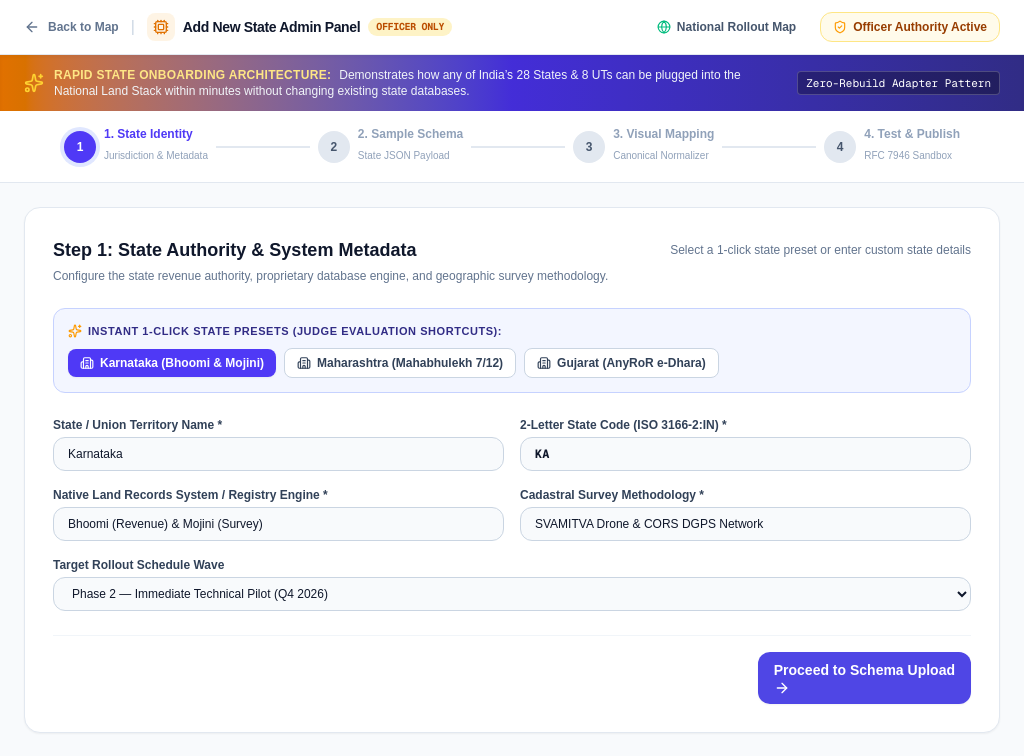
Test: State Onboarding Admin Panel & Schema Adapter Wizard › publishes state adapter to Land Mesh with success message and confirmation banner
# Navigate to step 4
Click the button with test id "next-step-1-btn" at (864, 678), box [758,652,971,704]
(page scrolled)
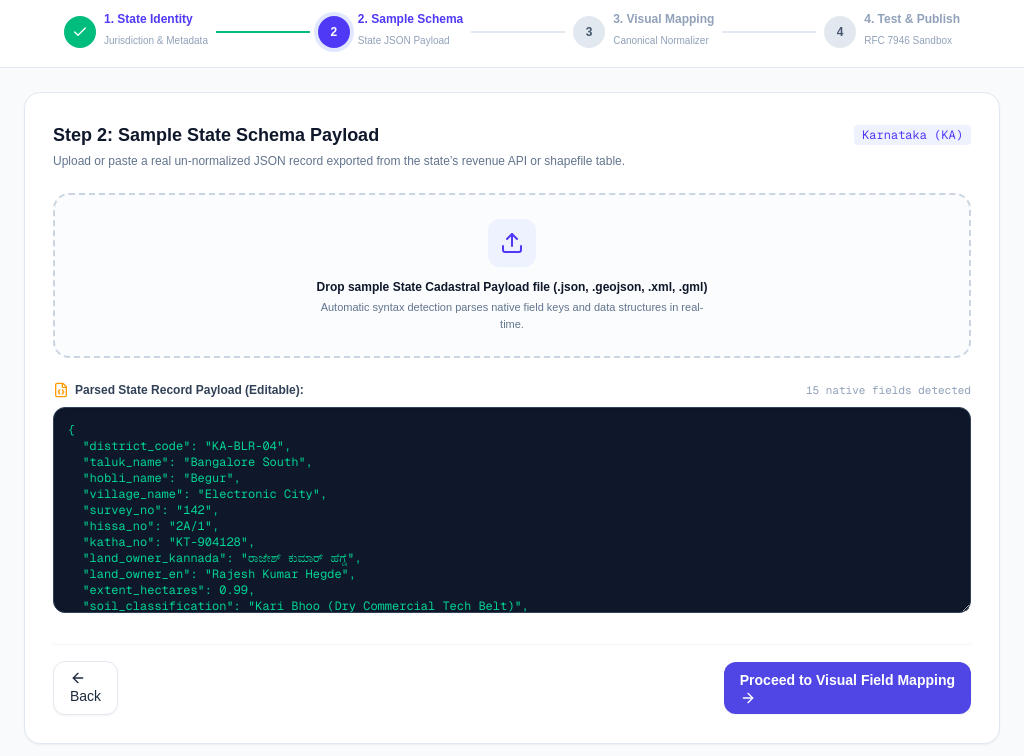
Click the button with test id "next-step-2-btn" at (847, 688), box [724,662,971,714]
(page scrolled)
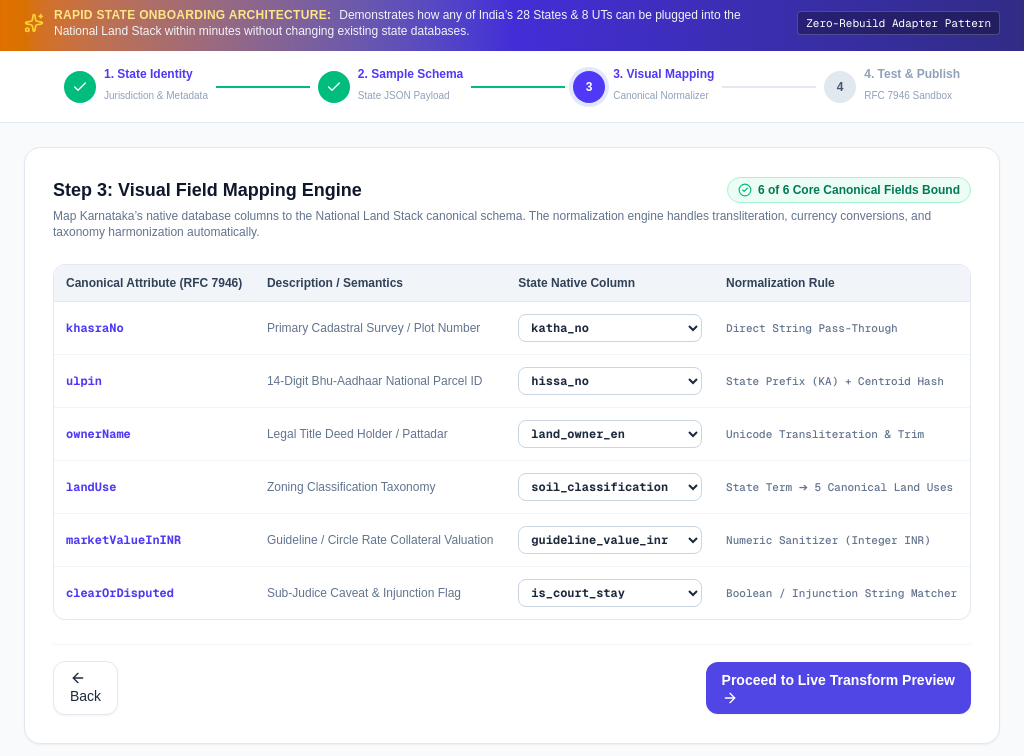
Click the button with test id "next-step-3-btn" at (838, 688), box [706,662,971,714]
(page scrolled)
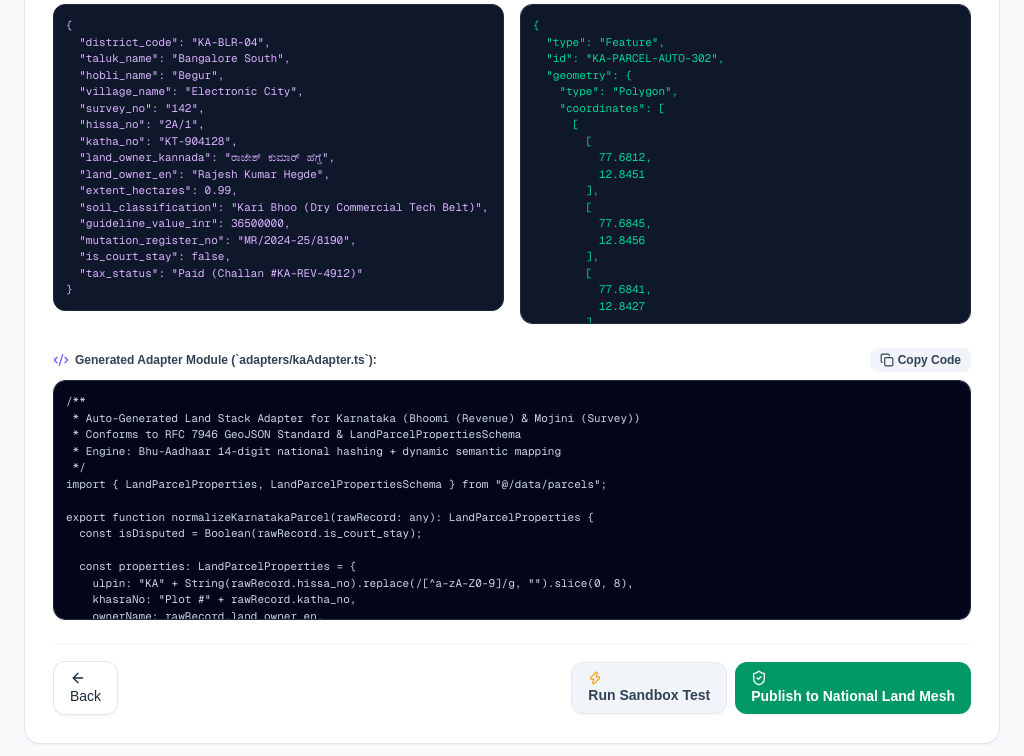
Result: the button with test id "publish-state-adapter-btn" is shown
Result: the button with test id "publish-state-adapter-btn" reads "Publish to National Land Mesh"
Click the button with test id "publish-state-adapter-btn" at (853, 688), box [735,662,971,714]
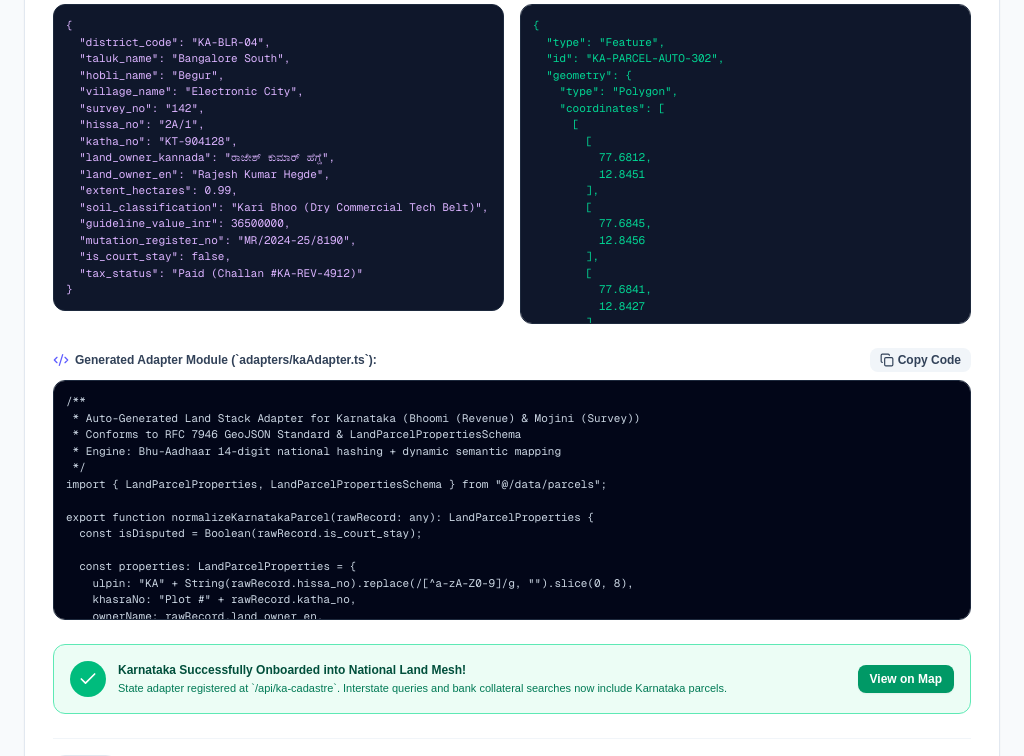
Result: the heading "Karnataka Successfully Onboarded into National Land Mesh!" is shown at [118,663,466,677]
Result: the link "View on Map" is shown at [858,665,954,693]
